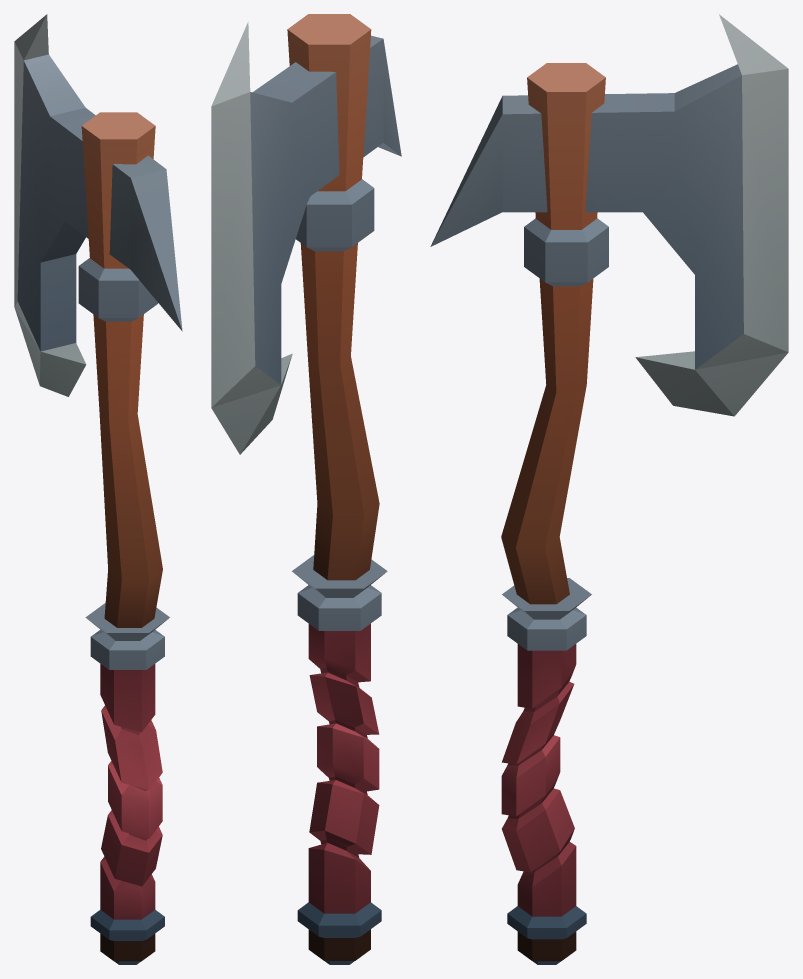
Rendered from Axe_small.fbx.
3 renders of one model, left to right at view 1: azimuth 30°, elevation 25°; view 2: azimuth 150°, elevation 25°; view 3: azimuth 270°, elevation 25°, orthographic. The views are drawn at different scales.
Parts seen in each view (by area): view 1: Axe_small; view 2: Axe_small; view 3: Axe_small.
Boxes of the visible parts, x1,y1,x2,y2 form: Axe_small: [14, 14, 182, 964]; Axe_small: [211, 14, 401, 964]; Axe_small: [430, 14, 788, 964].
Size of the model in its own units: 0.0517 by 0.6882 by 0.2368.
1 material, 1 textured.
